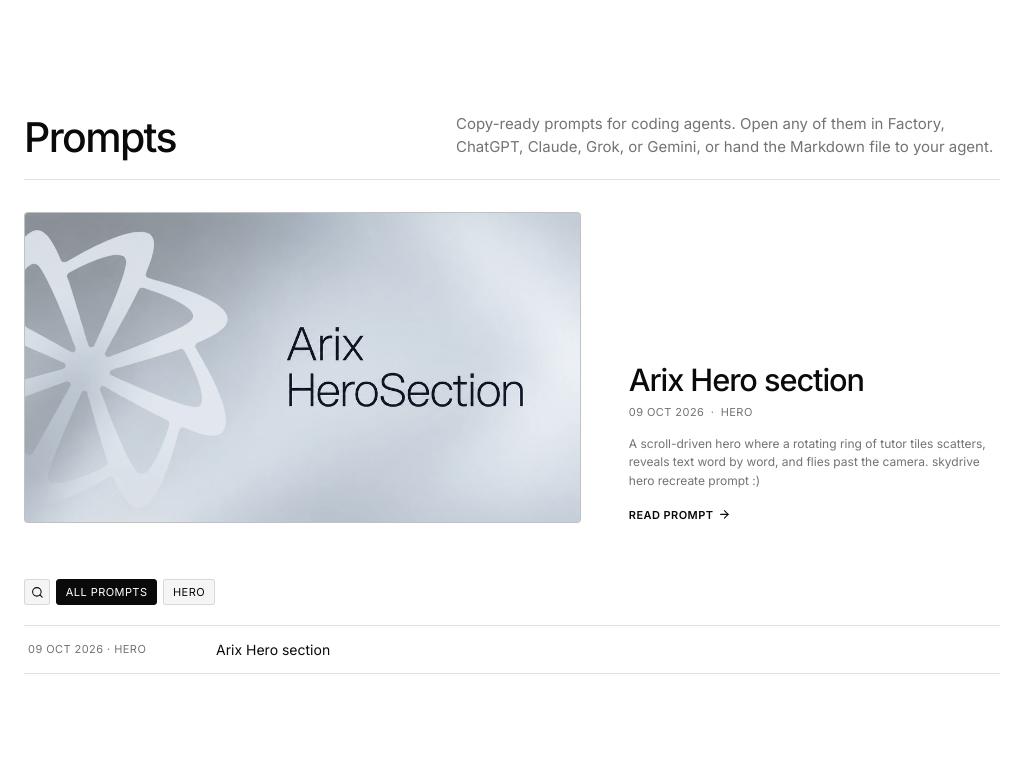
Test: prompts page › features the Arix prompt and filters the list by category and search
Expected: the heading "Arix Hero section" is shown, [629,361,864,398]
Click the button "Hero" at [189, 592], box [163,579,215,605]
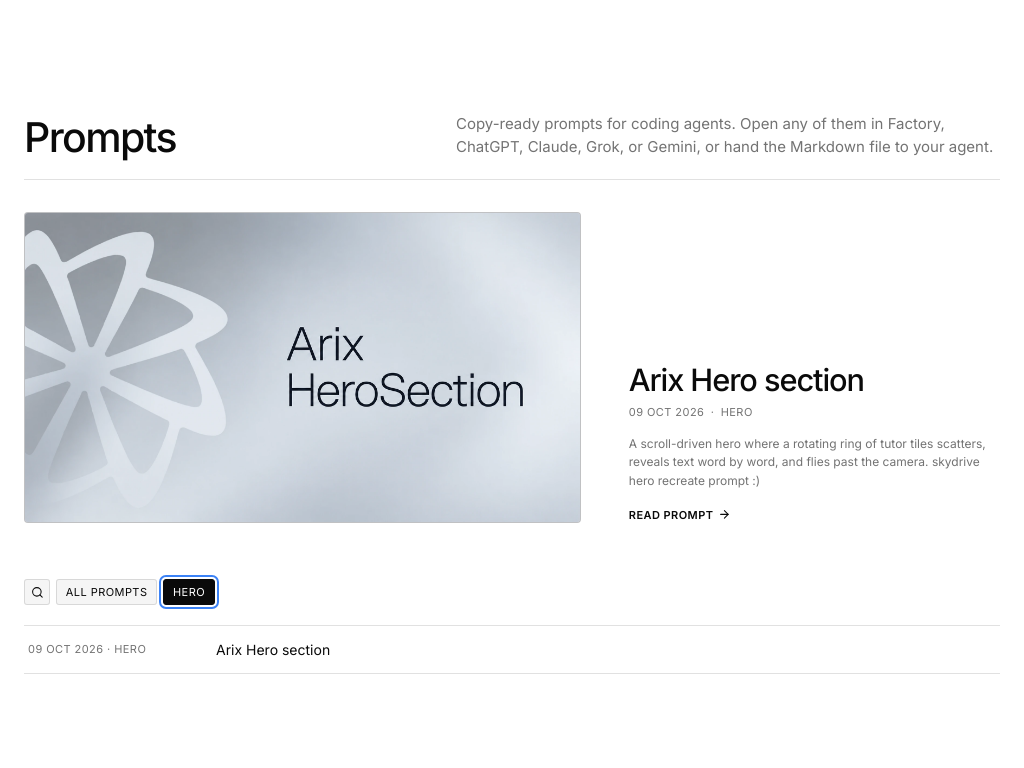
Result: the button "Hero" is pressed at [163,579,215,605]
Click the button named "Search prompts" at [37, 592], box [24,579,50,605]
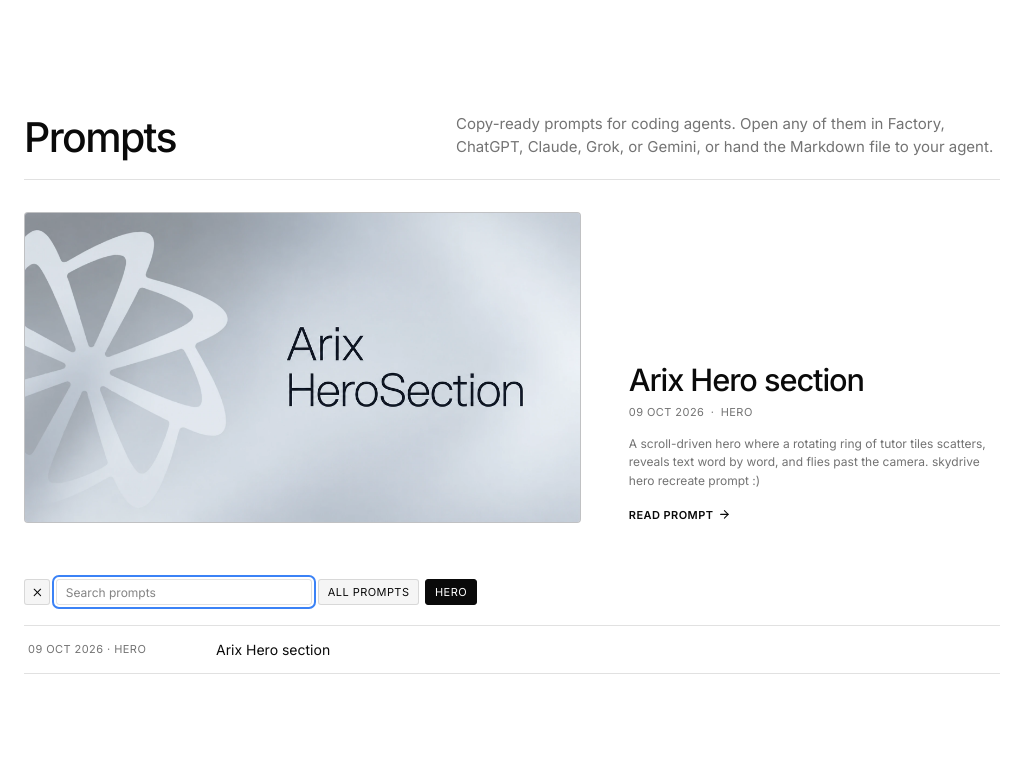
Type "zzz" into the search field labelled "Search prompts" at [184, 592], box [56,579,312,605]
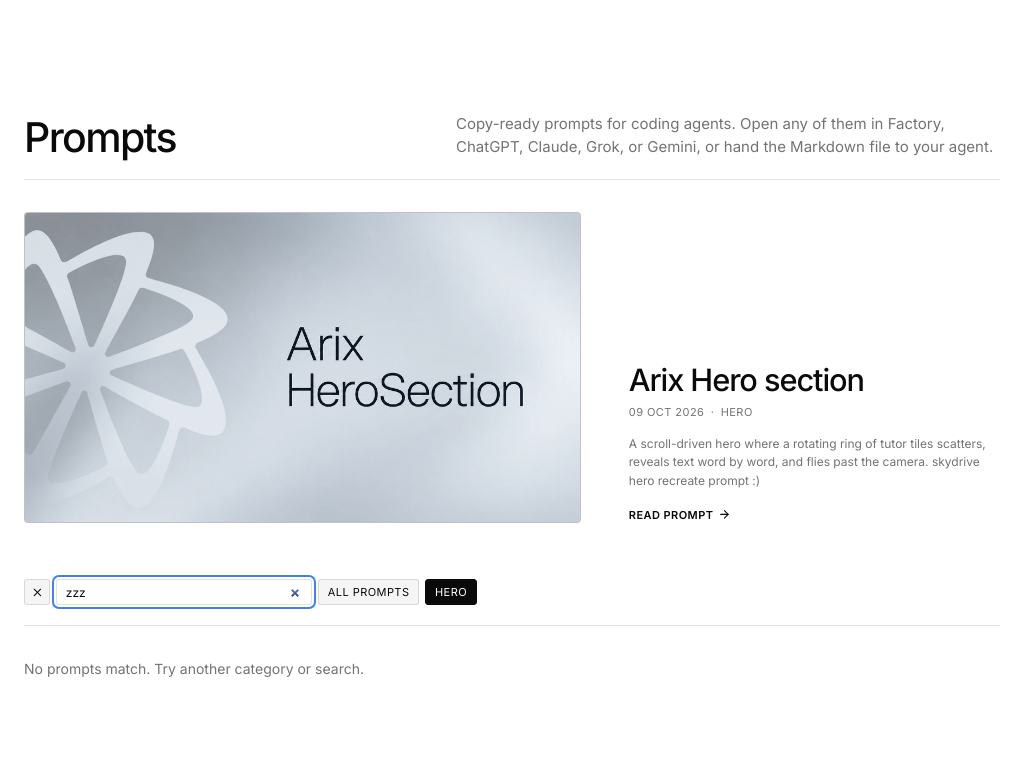
Result: the message shows "No prompts match" at [24,660,364,677]
